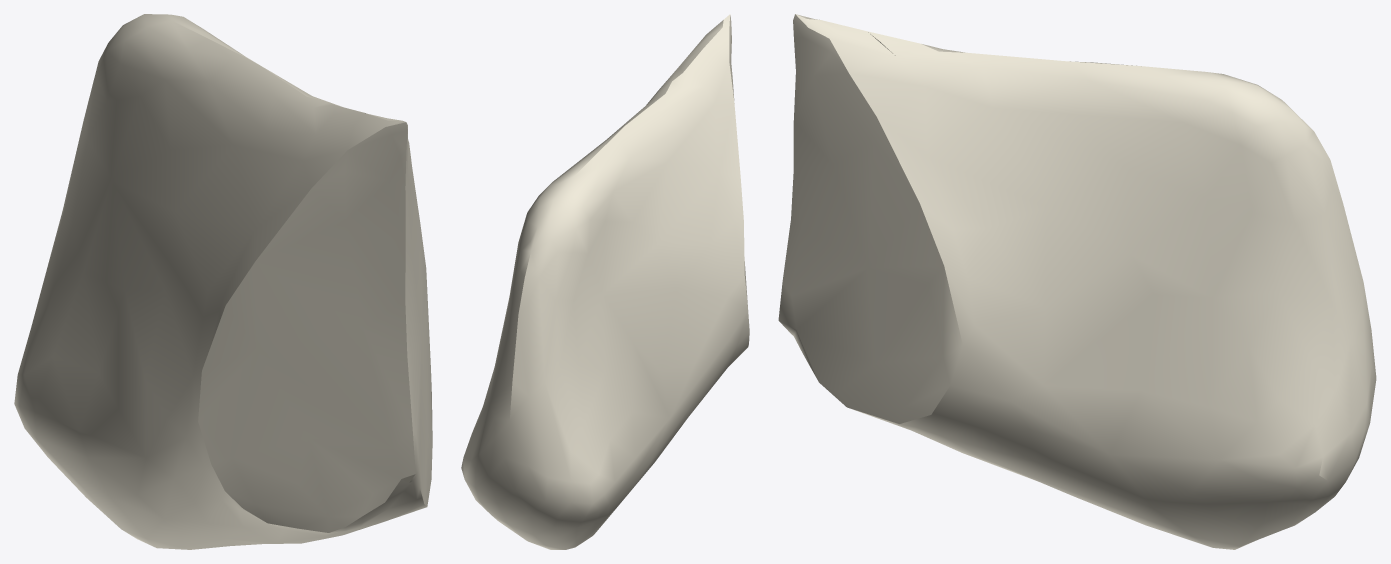
Rendered from fma16199_mm2340.glb.
The picture shows the model from 3 angles, left to right: view 1: azimuth 30°, elevation 25°; view 2: azimuth 150°, elevation 25°; view 3: azimuth 270°, elevation 25°; orthographic projection. The views are drawn at different scales.
Parts seen in each view (by area): view 1: FMA16199_MM2340; view 2: FMA16199_MM2340; view 3: FMA16199_MM2340.
Part boxes in pixels (bbox=[...]): FMA16199_MM2340: bbox=[14, 14, 432, 549]; FMA16199_MM2340: bbox=[461, 14, 749, 549]; FMA16199_MM2340: bbox=[778, 14, 1376, 549].
Bounding box in the file's own units: 0.0081 × 0.0201 × 0.0204.
